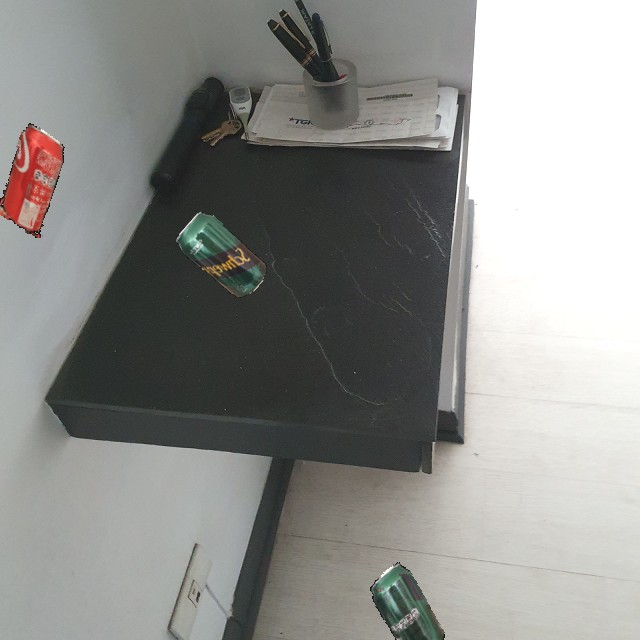coca cola: (0, 120, 70, 238)
schweppes: (171, 207, 274, 305), (356, 559, 460, 640)
